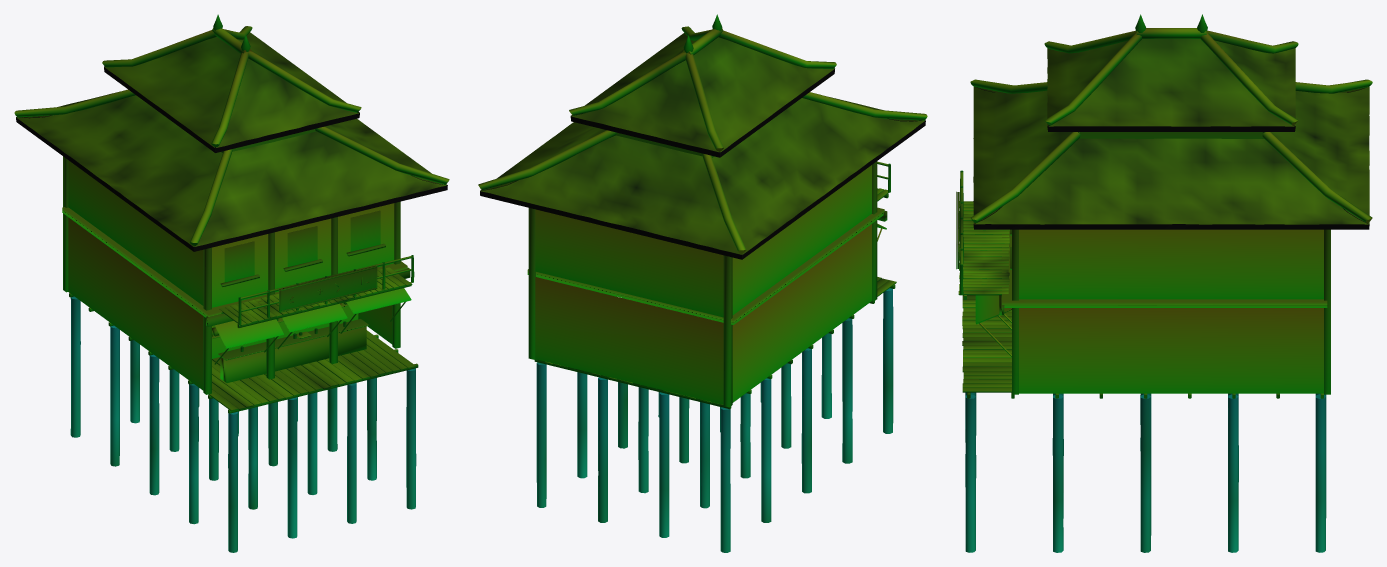
File: shophouse_b.glb
3 views of the same model, side by side, from view 1: azimuth 30°, elevation 25°; view 2: azimuth 150°, elevation 25°; view 3: azimuth 270°, elevation 25° (orthographic). The views are drawn at different scales.
Visible parts, largest first — view 1: shophouse_b; view 2: shophouse_b; view 3: shophouse_b.
Boxes of the visible parts, x1=… form: shophouse_b: x1=14, y1=14, x2=449, y2=552; shophouse_b: x1=478, y1=14, x2=927, y2=552; shophouse_b: x1=956, y1=14, x2=1372, y2=552.
Size of what is drawn, in the model's own units: 9.61 by 15.54 by 12.01.
